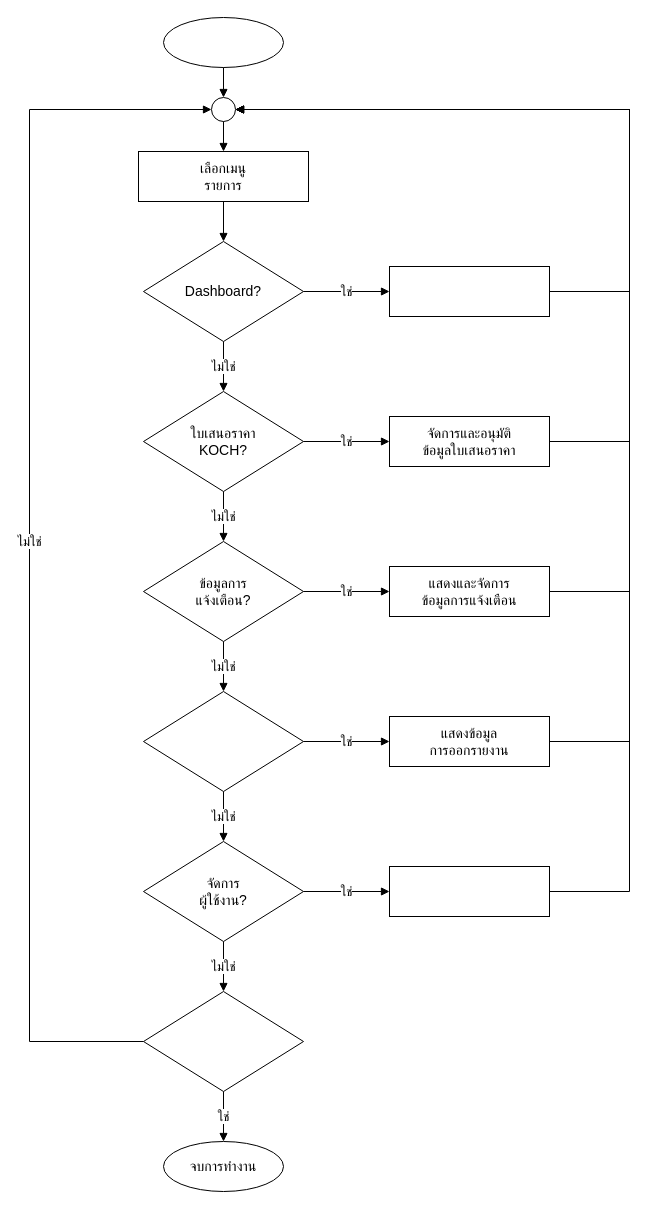
Some shapes in this 655 by 1209 pixel diagram are drawn without their labels. The centre of each missing label's shape, as x and y in pixels:
"Export รายงาน?" goes at pixel 223 741.
"ออกจากระบบ?" goes at pixel 223 1041.
"เริ่มต้น" goes at pixel 223 42.
"แสดงข้อมูล จัดการผู้ใช้งาน" goes at pixel 469 891.
"แสดงรายงาน และสรุปข้อมูล" goes at pixel 469 291.
